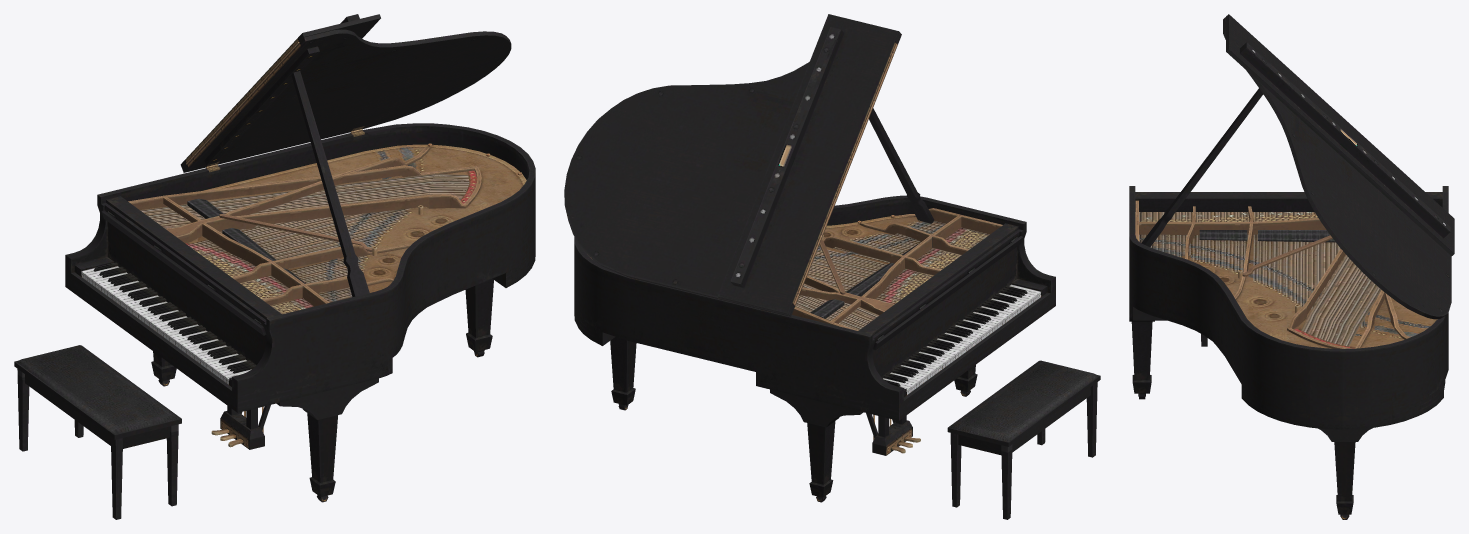
File: piano.fbx
3 views of the same model, side by side, from view 1: azimuth 30°, elevation 25°; view 2: azimuth 150°, elevation 25°; view 3: azimuth 270°, elevation 25° (orthographic). The views are drawn at different scales.
Parts seen in each view (by area): view 1: piano_base; view 2: piano_base; view 3: piano_base.
Part boxes in pixels (left/top/right/bottom): piano_base: left=14, top=14, right=535, bottom=519; piano_base: left=564, top=14, right=1100, bottom=519; piano_base: left=1129, top=14, right=1454, bottom=519.
Bounding box in the file's own units: 2.5 × 2.11 × 1.57.
1 material, 1 textured.
